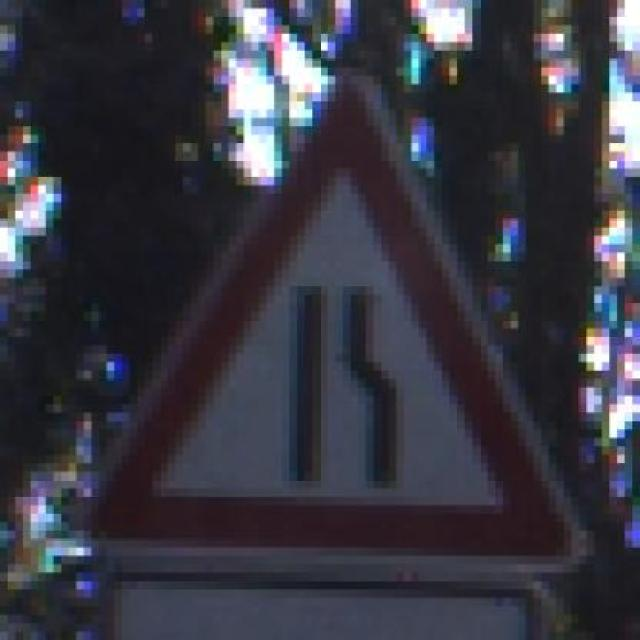-Road narrows on right: (68, 59, 602, 582)
